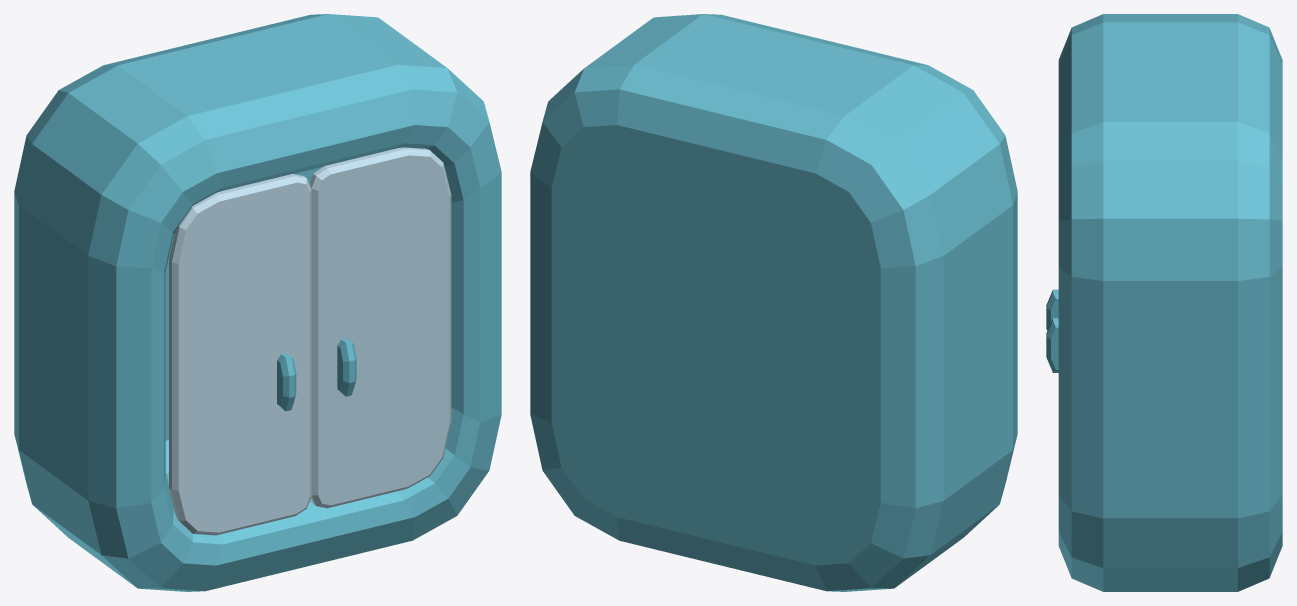
File: bathroomCloset.fbx
The picture shows the model from 3 angles, left to right: view 1: azimuth 30°, elevation 25°; view 2: azimuth 150°, elevation 25°; view 3: azimuth 270°, elevation 25°; orthographic projection. The views are drawn at different scales.
Visible parts, largest first — view 1: bathroom closet.001; view 2: bathroom closet.001; view 3: bathroom closet.001.
Boxes of the visible parts, box(x1,y1,x2,y2) form: bathroom closet.001: box(14, 14, 501, 591); bathroom closet.001: box(530, 14, 1017, 591); bathroom closet.001: box(1046, 14, 1282, 591).
Size of the model in its own units: 0.6769 by 0.7527 by 0.3493.
Materials: 1 (1 with a texture image).
